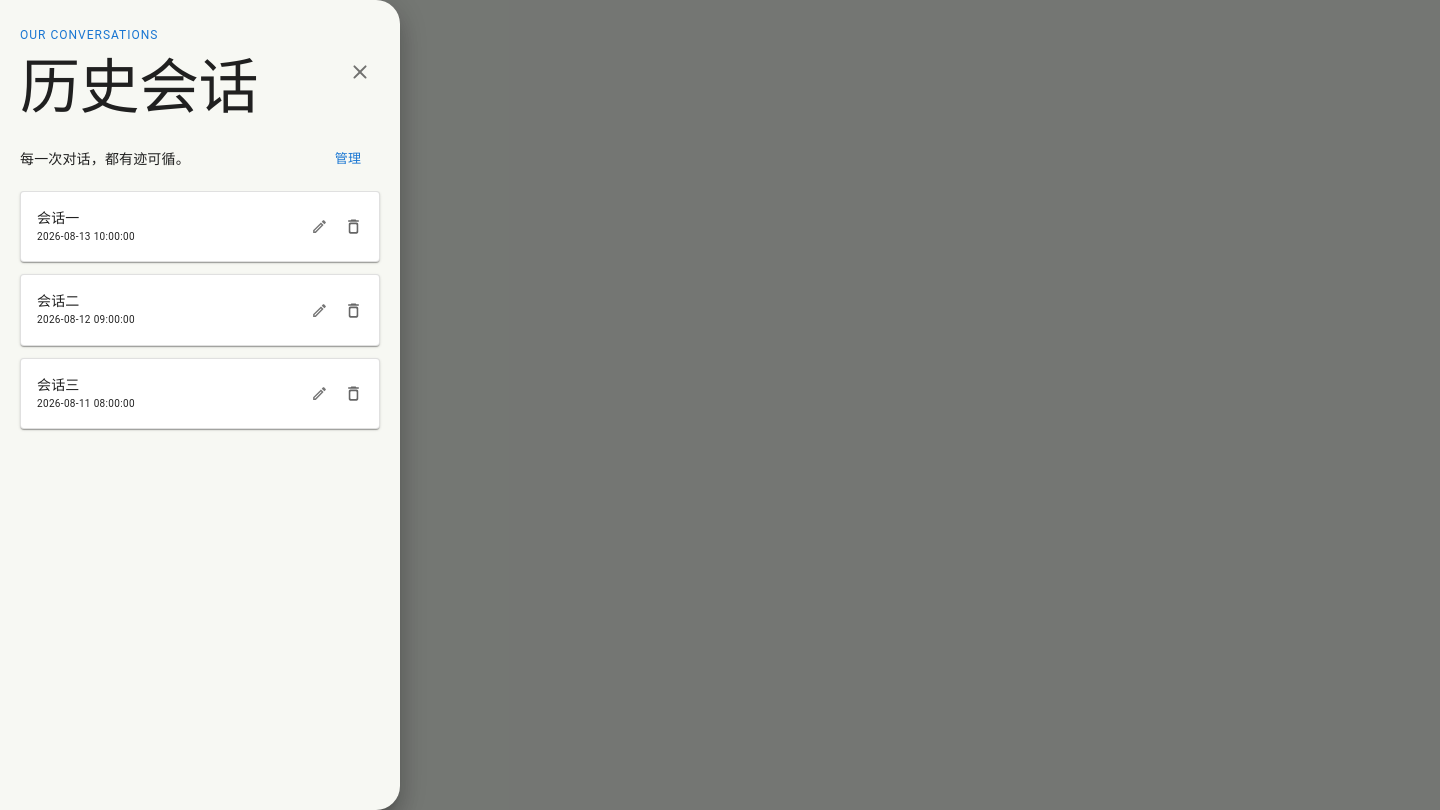
Test: HistorySidebar 批量删除 › 未勾选时删除按钮禁用
The width and height of the screenshot is (1440, 810).
Expected: the text "会话一" is shown, [37,210,80,226]
Click the button with aria-label "批量管理会话": [348, 159] box [316,144,380,175]
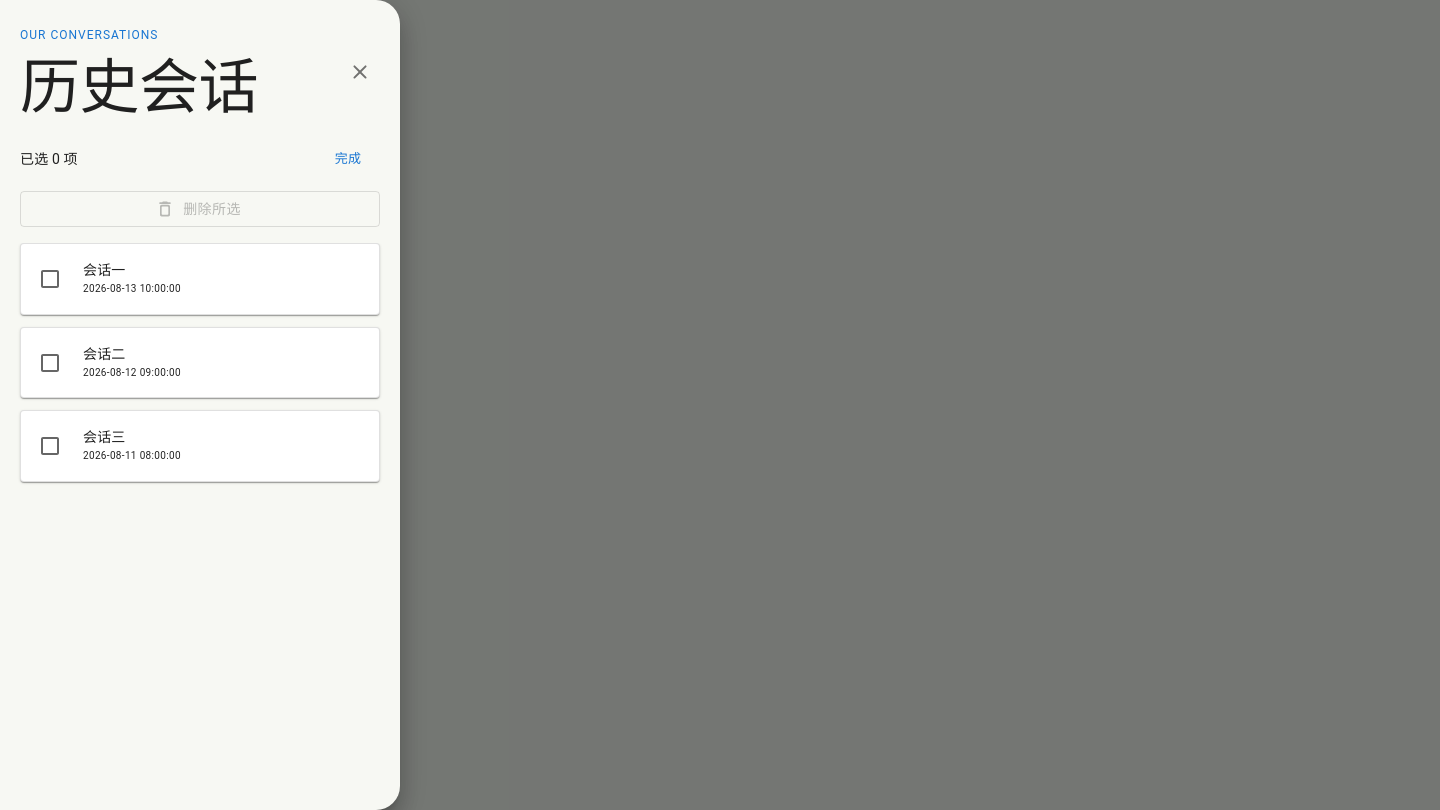
Now the button with aria-label "删除所选会话" is disabled, box [20,191,380,227]
